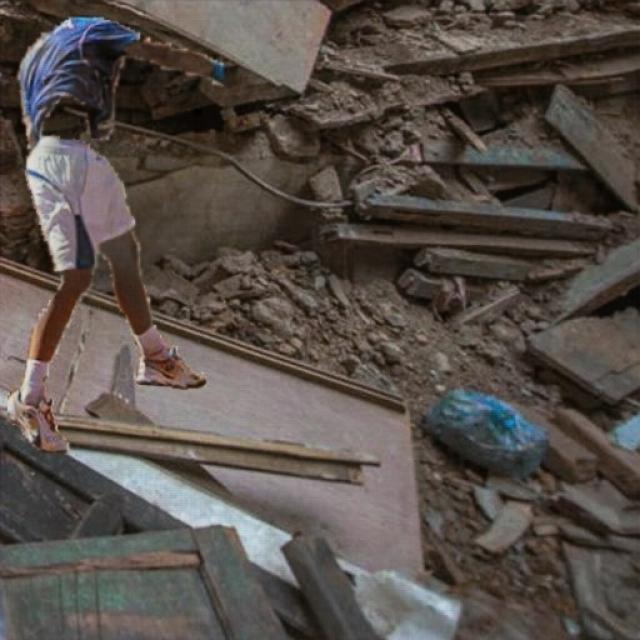Person in Rubble: (8, 18, 222, 452)
